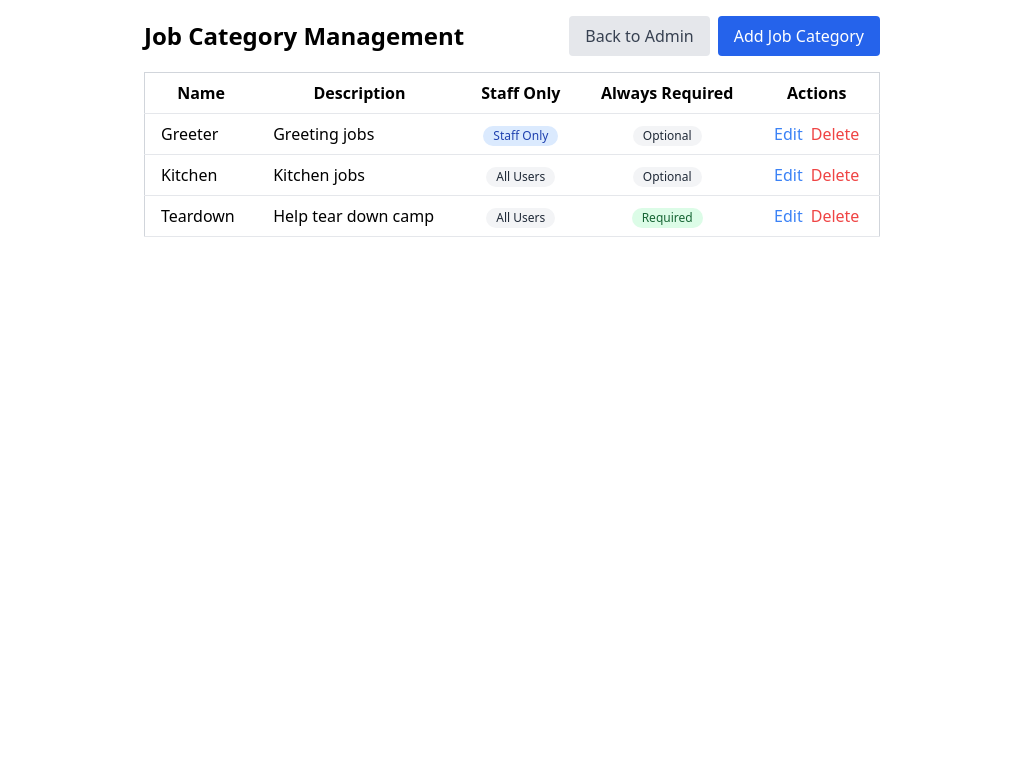
Test: AdminJobCategoriesPage › should display error message when deleteCategory fails
Note: Open the delete confirmation modal
Click the button with aria-label "Delete Kitchen": click(835, 175) [811,163,859,187]
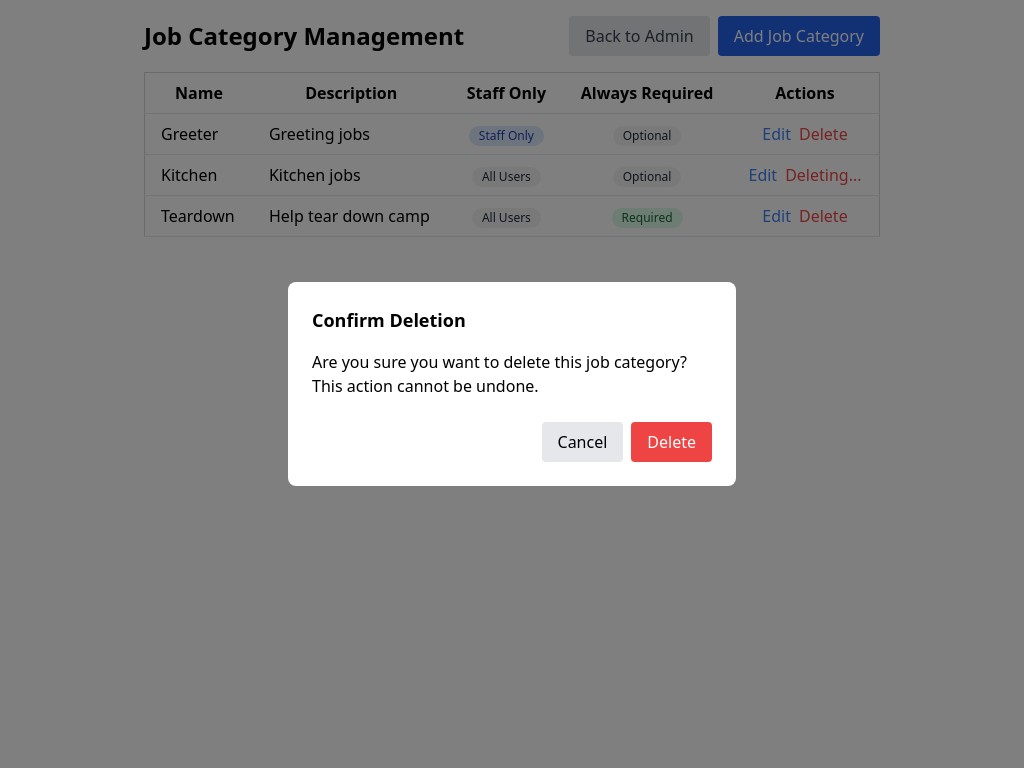
Note: Confirm deletion
Click the button with test id "confirm-delete-button": click(672, 442) [631,422,712,462]
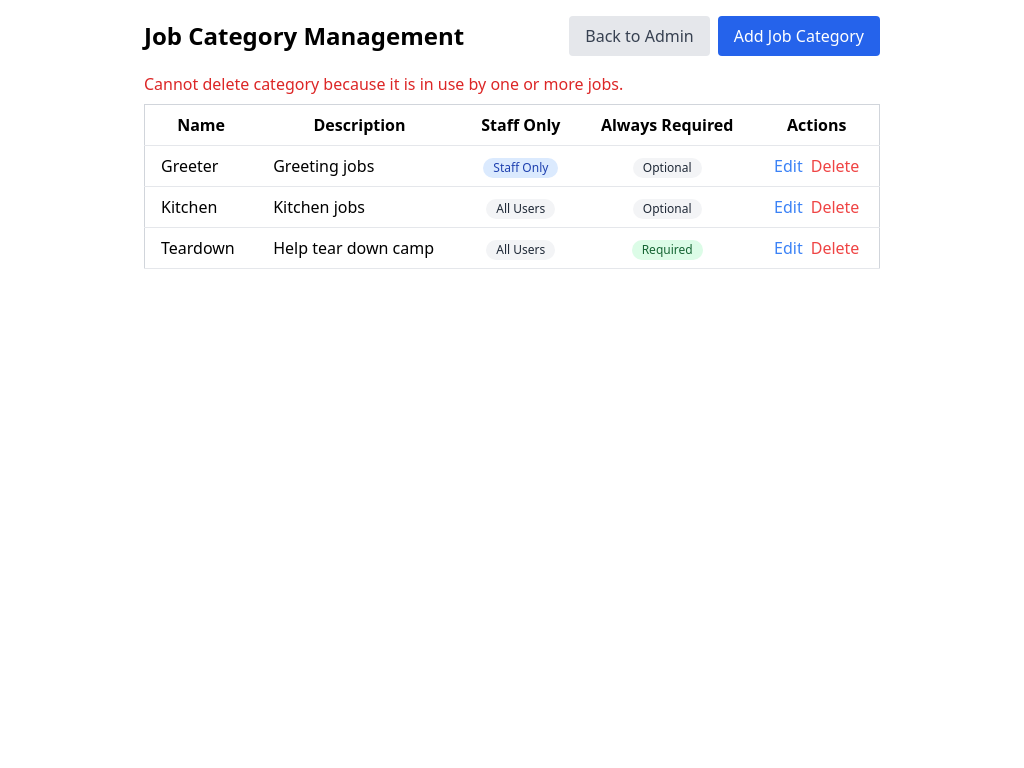
Expected: the text "Cannot delete category because it is in use by one or more jobs." is shown, [144,73,623,95]
